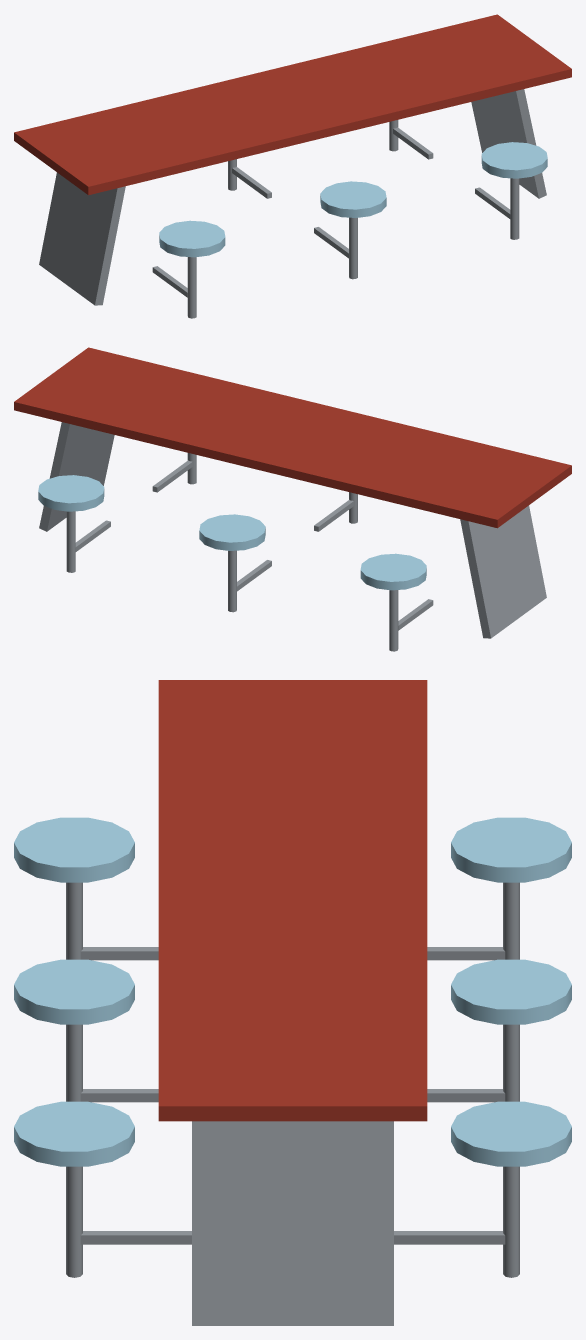
The model's file is cafeteria_table.glb.
3 views of the same model, one above another, from view 1: azimuth 30°, elevation 25°; view 2: azimuth 150°, elevation 25°; view 3: azimuth 270°, elevation 25° (orthographic). The views are drawn at different scales.
Parts seen in each view (by area): view 1: cafeteria_table; view 2: cafeteria_table; view 3: cafeteria_table.
Boxes of the visible parts, x1=… form: cafeteria_table: x1=14, y1=14, x2=571, y2=318; cafeteria_table: x1=14, y1=347, x2=571, y2=651; cafeteria_table: x1=14, y1=680, x2=571, y2=1325.
Bounding box in the file's own units: 3 × 0.785 × 1.66.
